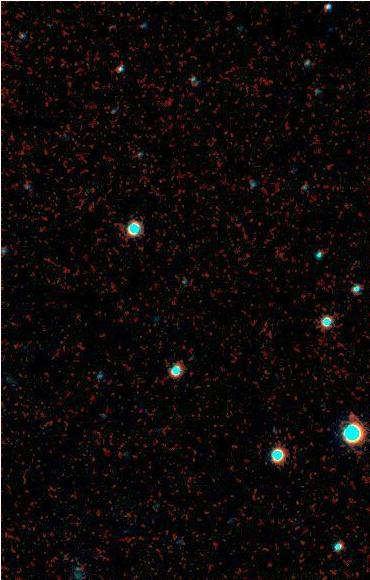star: (339, 402, 369, 432)
